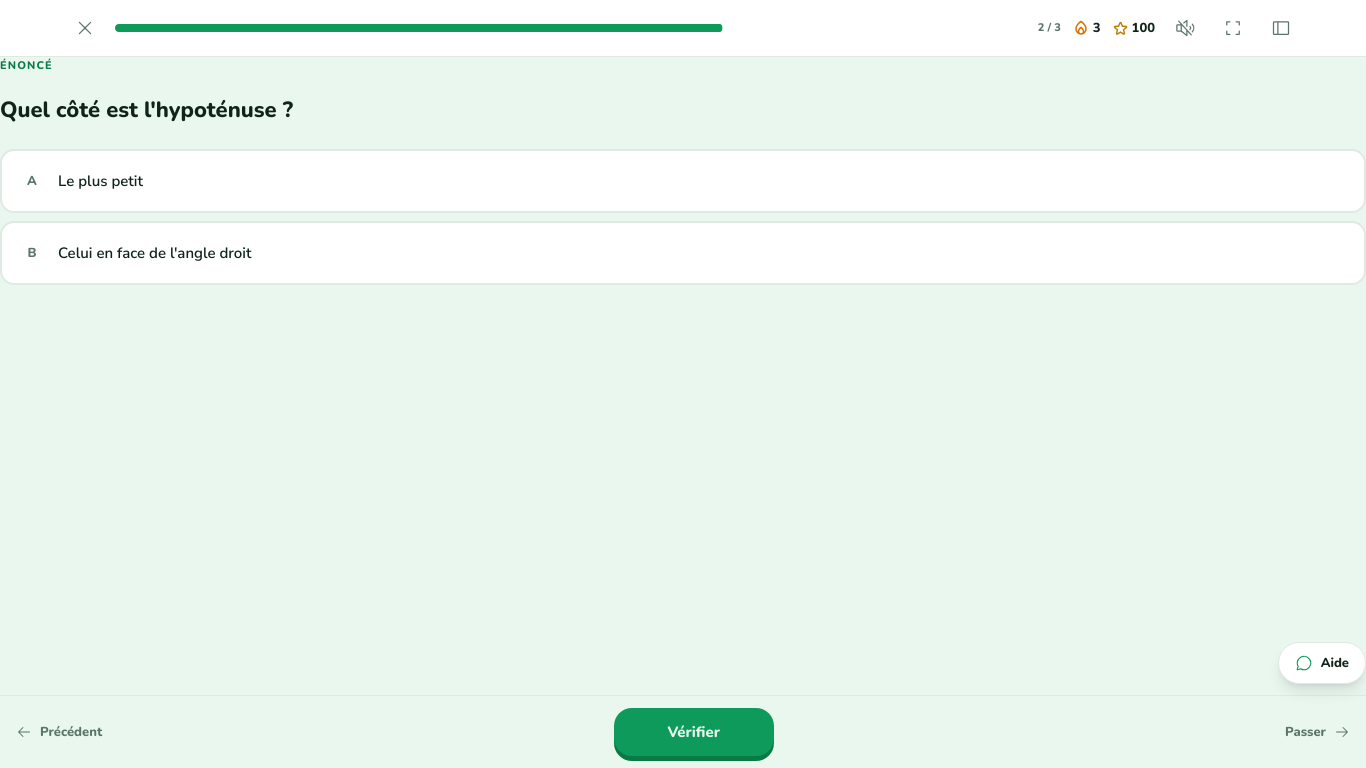
interactive mode — the rewards of an exercise (#248) › flies nothing when the answer earned no XP
Expected: the button "Vérifier" is shown, [614,708,774,756]
Click the button with aria-label "Option B:" at (155, 253), box [0,221,1365,285]
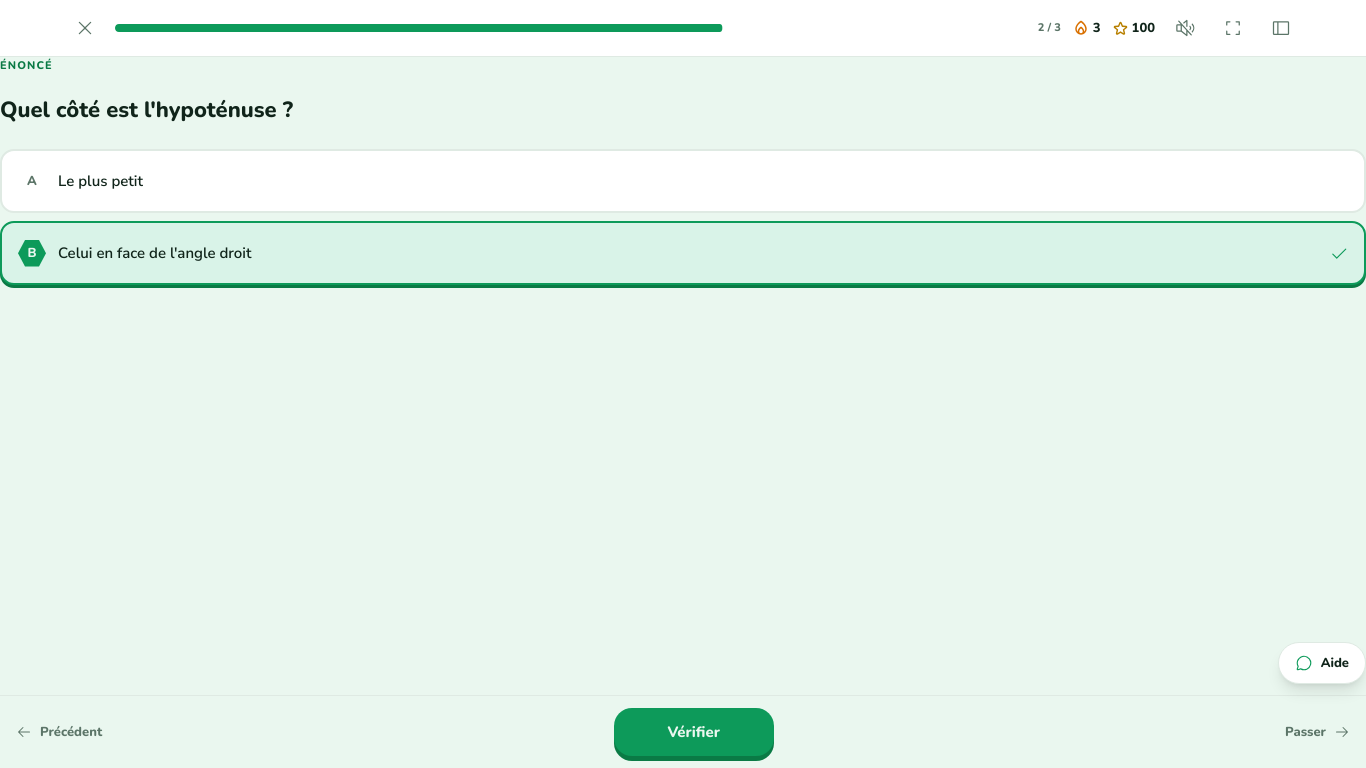
Click the button "Vérifier" at (694, 732), box [614,708,774,756]
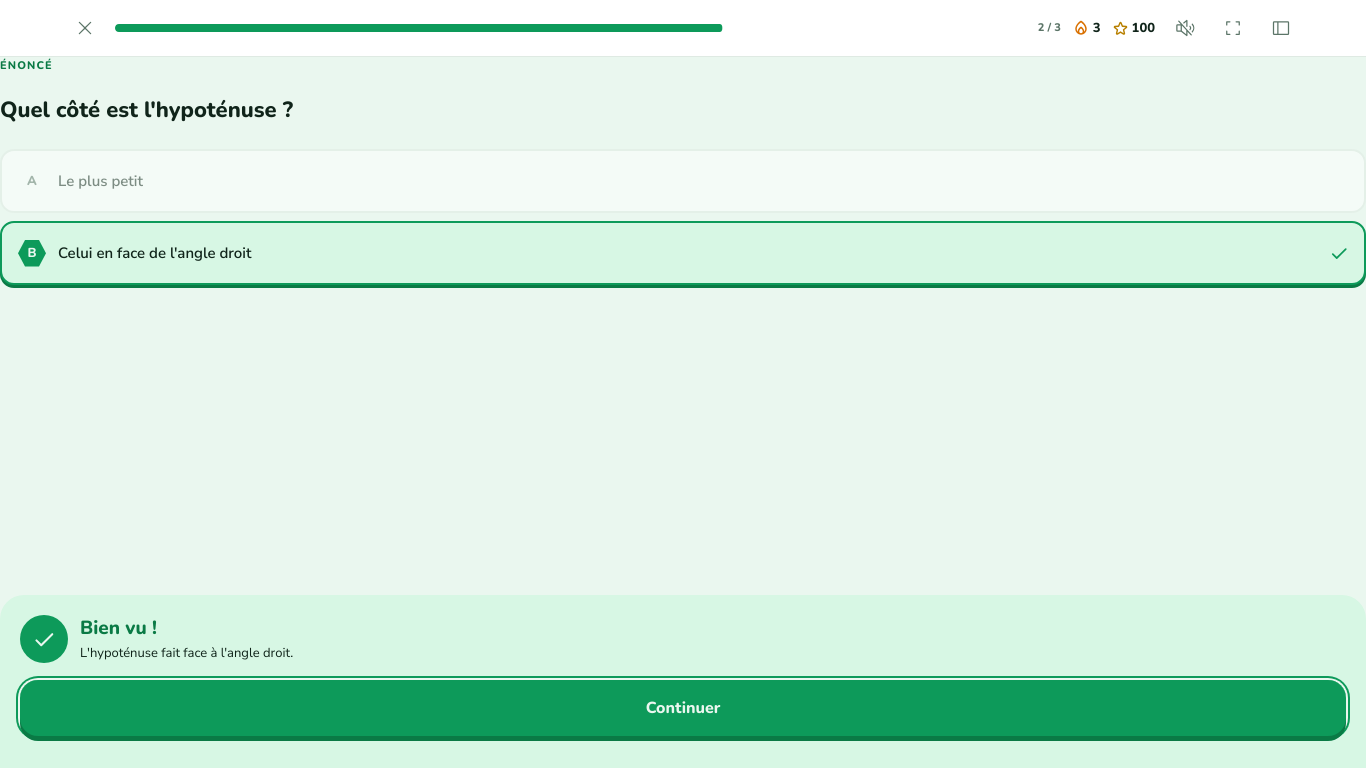
Expected: the element showing "100" is shown, [1113,18,1155,38]
Expected: the text "Bien vu !" is shown, [80,615,157,641]
